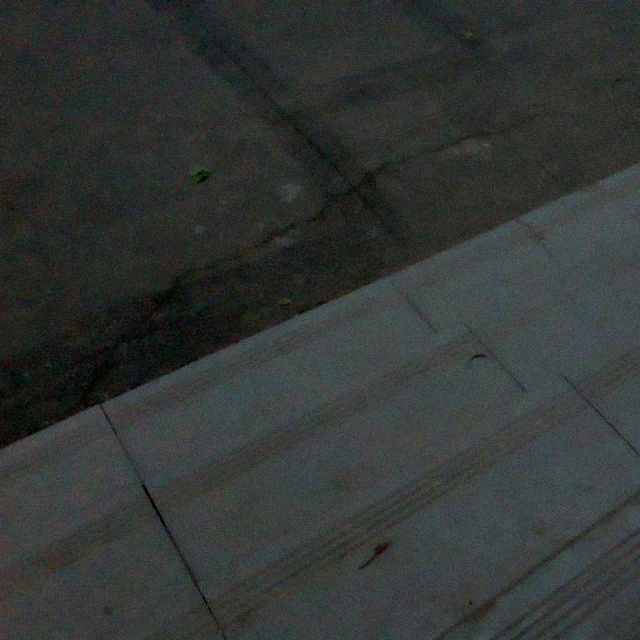stair: (27, 215, 640, 632)
